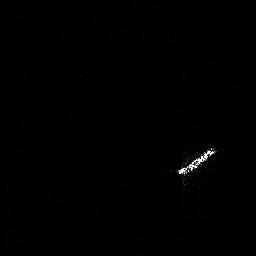ship: (178, 145, 213, 174)
